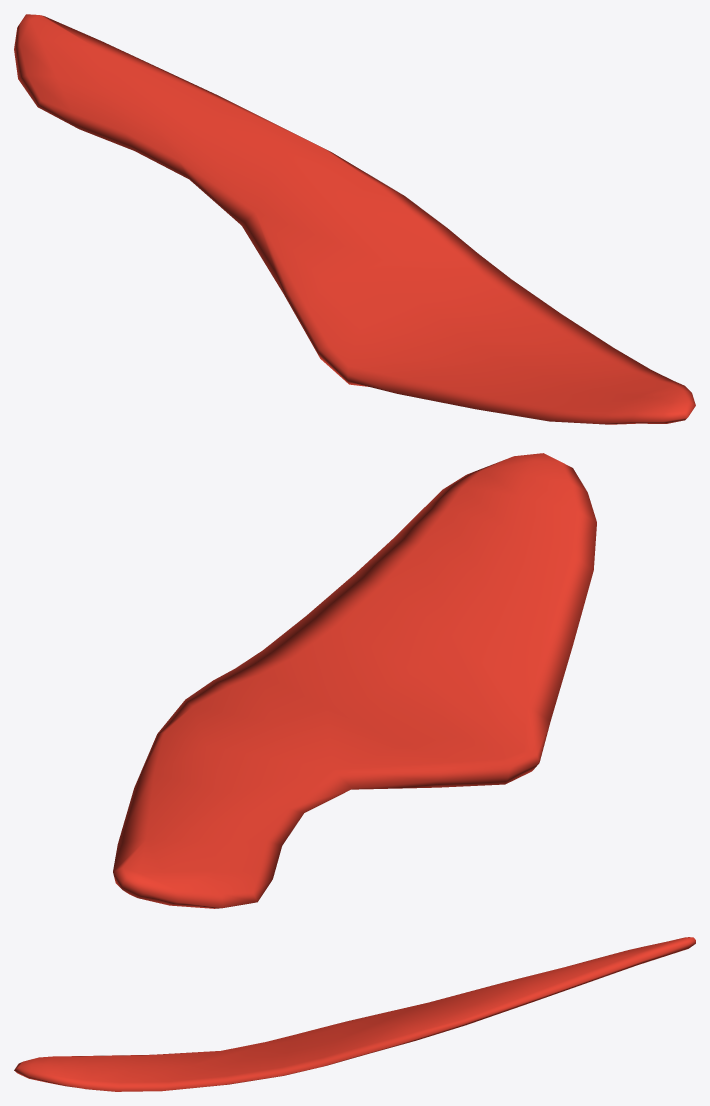
File: Rectus_posterior_major_capitis_muscle-Occipital_insertion.l_Gen.glb
The picture shows the model from 3 angles, top to bottom: view 1: azimuth 30°, elevation 25°; view 2: azimuth 150°, elevation 25°; view 3: azimuth 270°, elevation 25°; orthographic projection. The views are drawn at different scales.
Visible parts, largest first — view 1: Rectus_posterior_major_capitis_muscle-Occipital_insertion.l_; view 2: Rectus_posterior_major_capitis_muscle-Occipital_insertion.l_; view 3: Rectus_posterior_major_capitis_muscle-Occipital_insertion.l_.
Boxes of the visible parts, x1,y1,x2,y2 form: Rectus_posterior_major_capitis_muscle-Occipital_insertion.l_: (14, 14, 695, 424); Rectus_posterior_major_capitis_muscle-Occipital_insertion.l_: (113, 453, 596, 908); Rectus_posterior_major_capitis_muscle-Occipital_insertion.l_: (14, 937, 695, 1091).
Bounding box in the file's own units: 0.00773 × 0.00437 × 0.0248.
